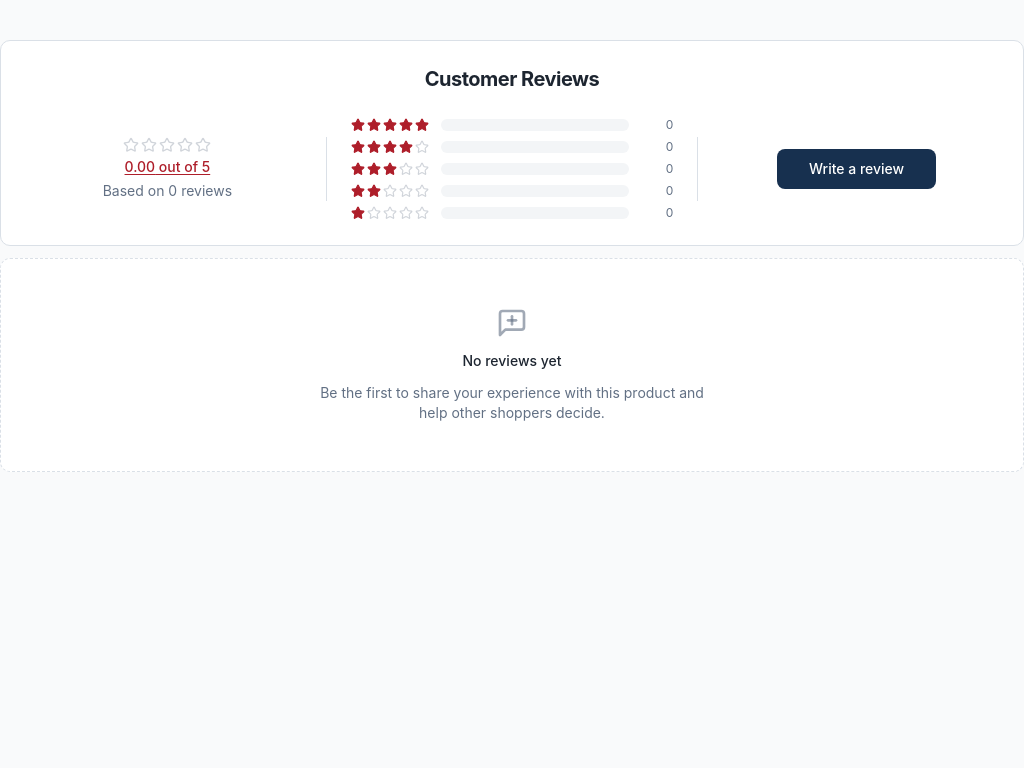
Scenario: Write a review modal accessibility › exposes an accessible star rating radiogroup
Click the button "Write a review" at {"x": 857, "y": 169}, box [777, 149, 936, 189]
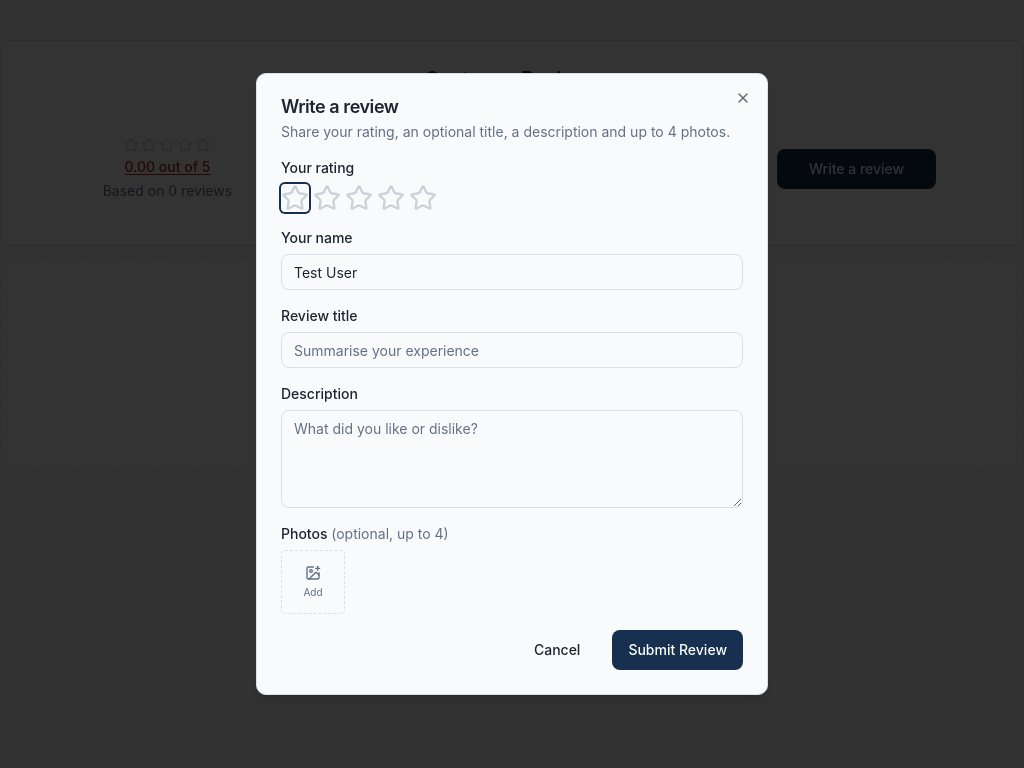
Expected: the number of radio buttons is 5
Click the radio button named "4 stars" at {"x": 391, "y": 198}, box [377, 184, 405, 212]
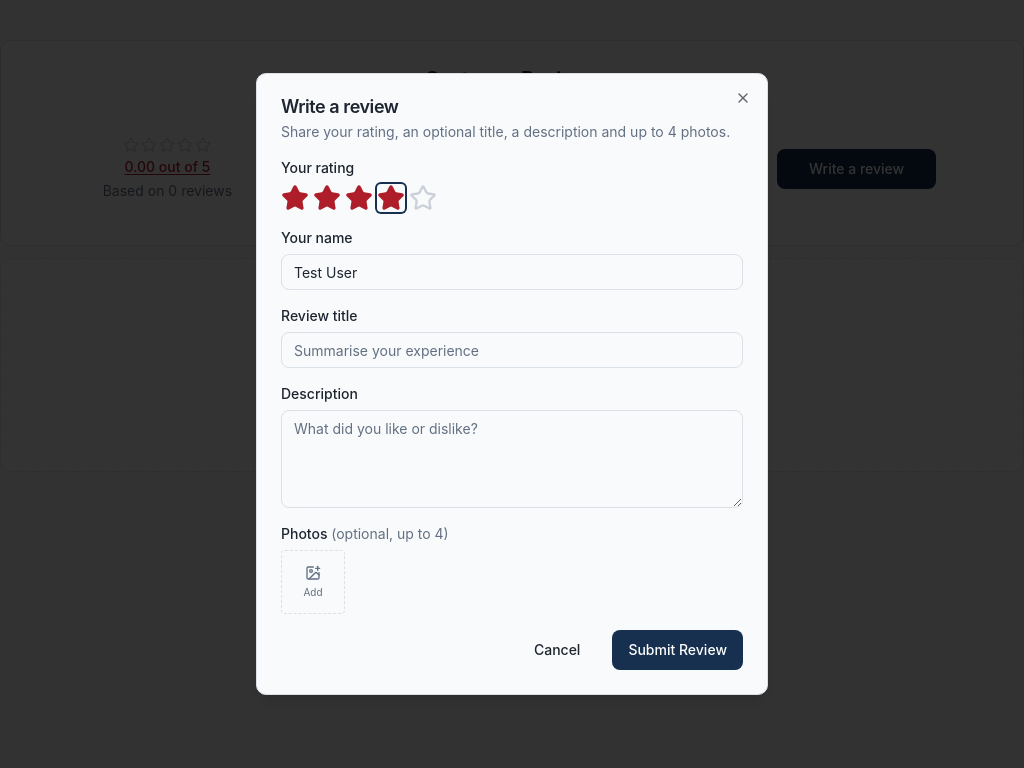
Expected: the radio button named "4 stars" is checked, [377, 184, 405, 212]
